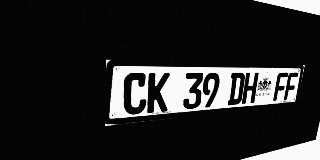3: (183, 73, 204, 110)
9: (201, 73, 221, 108)
C: (123, 73, 148, 116)
D: (227, 73, 245, 105)
F: (273, 73, 288, 101), (284, 72, 298, 100)
H: (241, 73, 259, 104)
K: (147, 73, 170, 113)
